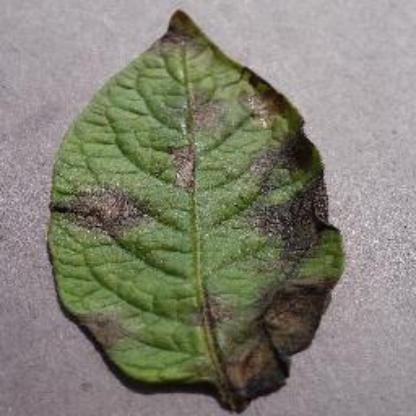Late-Blight: (30, 6, 354, 414)
